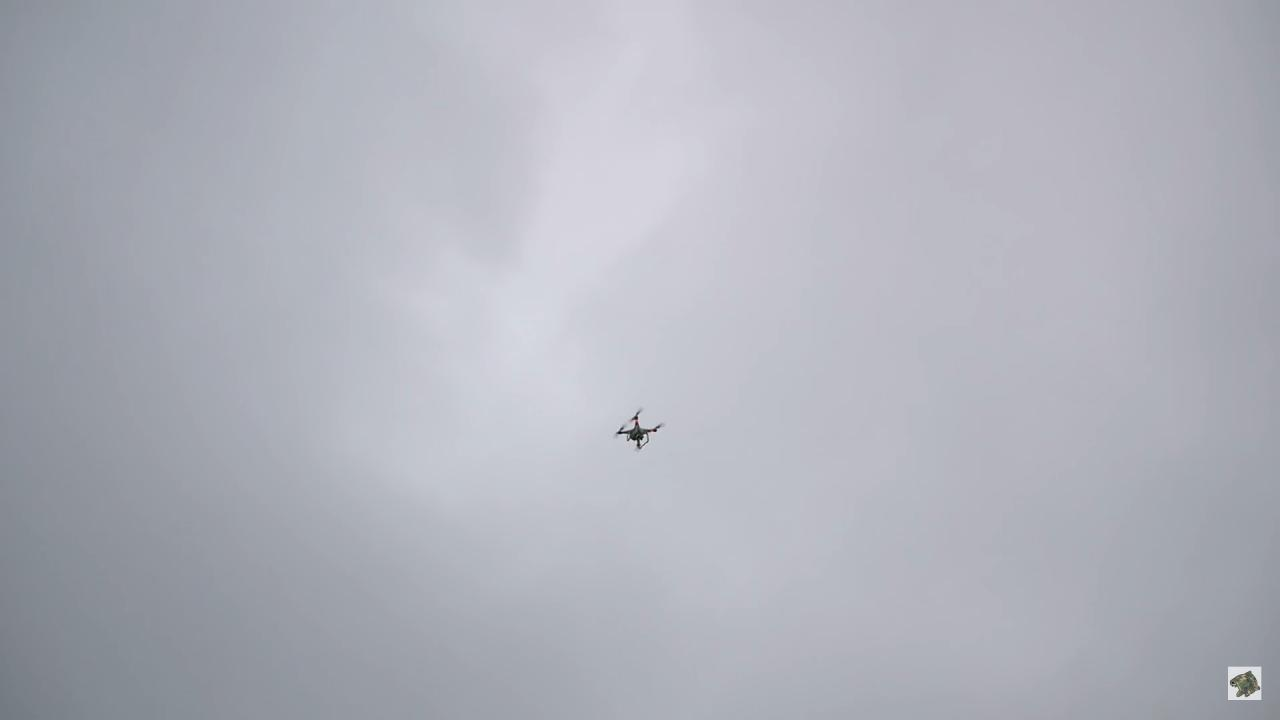Drone: (610, 402, 669, 458)
